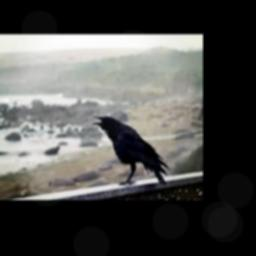Crow: (92, 115, 170, 187)
